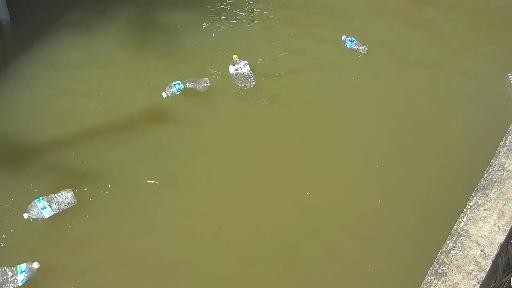plastic: (142, 65, 231, 105), (347, 24, 411, 72), (218, 45, 274, 92), (25, 178, 82, 217), (0, 254, 51, 285), (502, 61, 512, 92)
